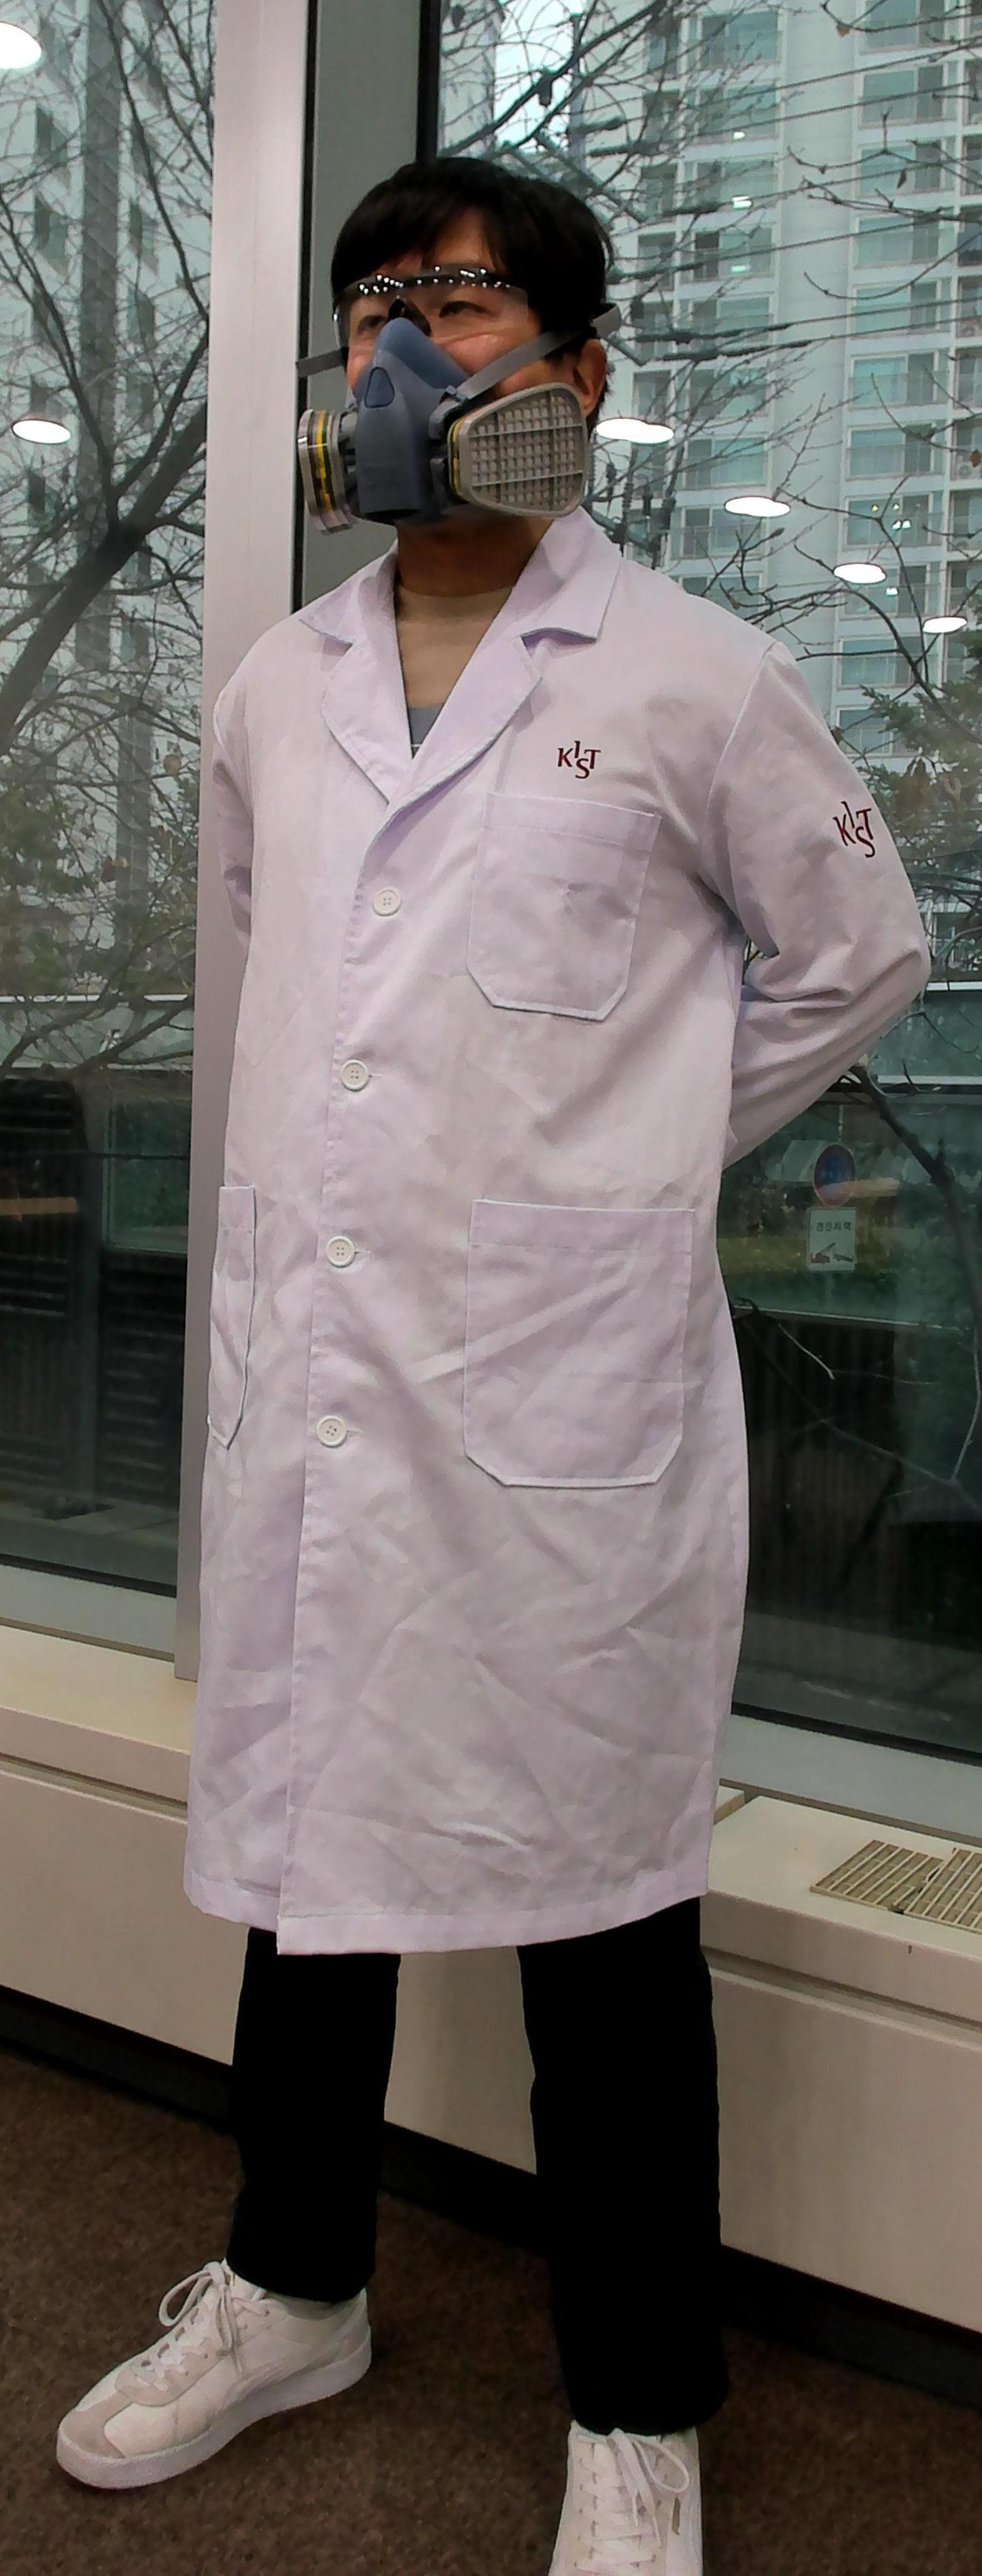lab_coat: (186, 580, 818, 1912)
